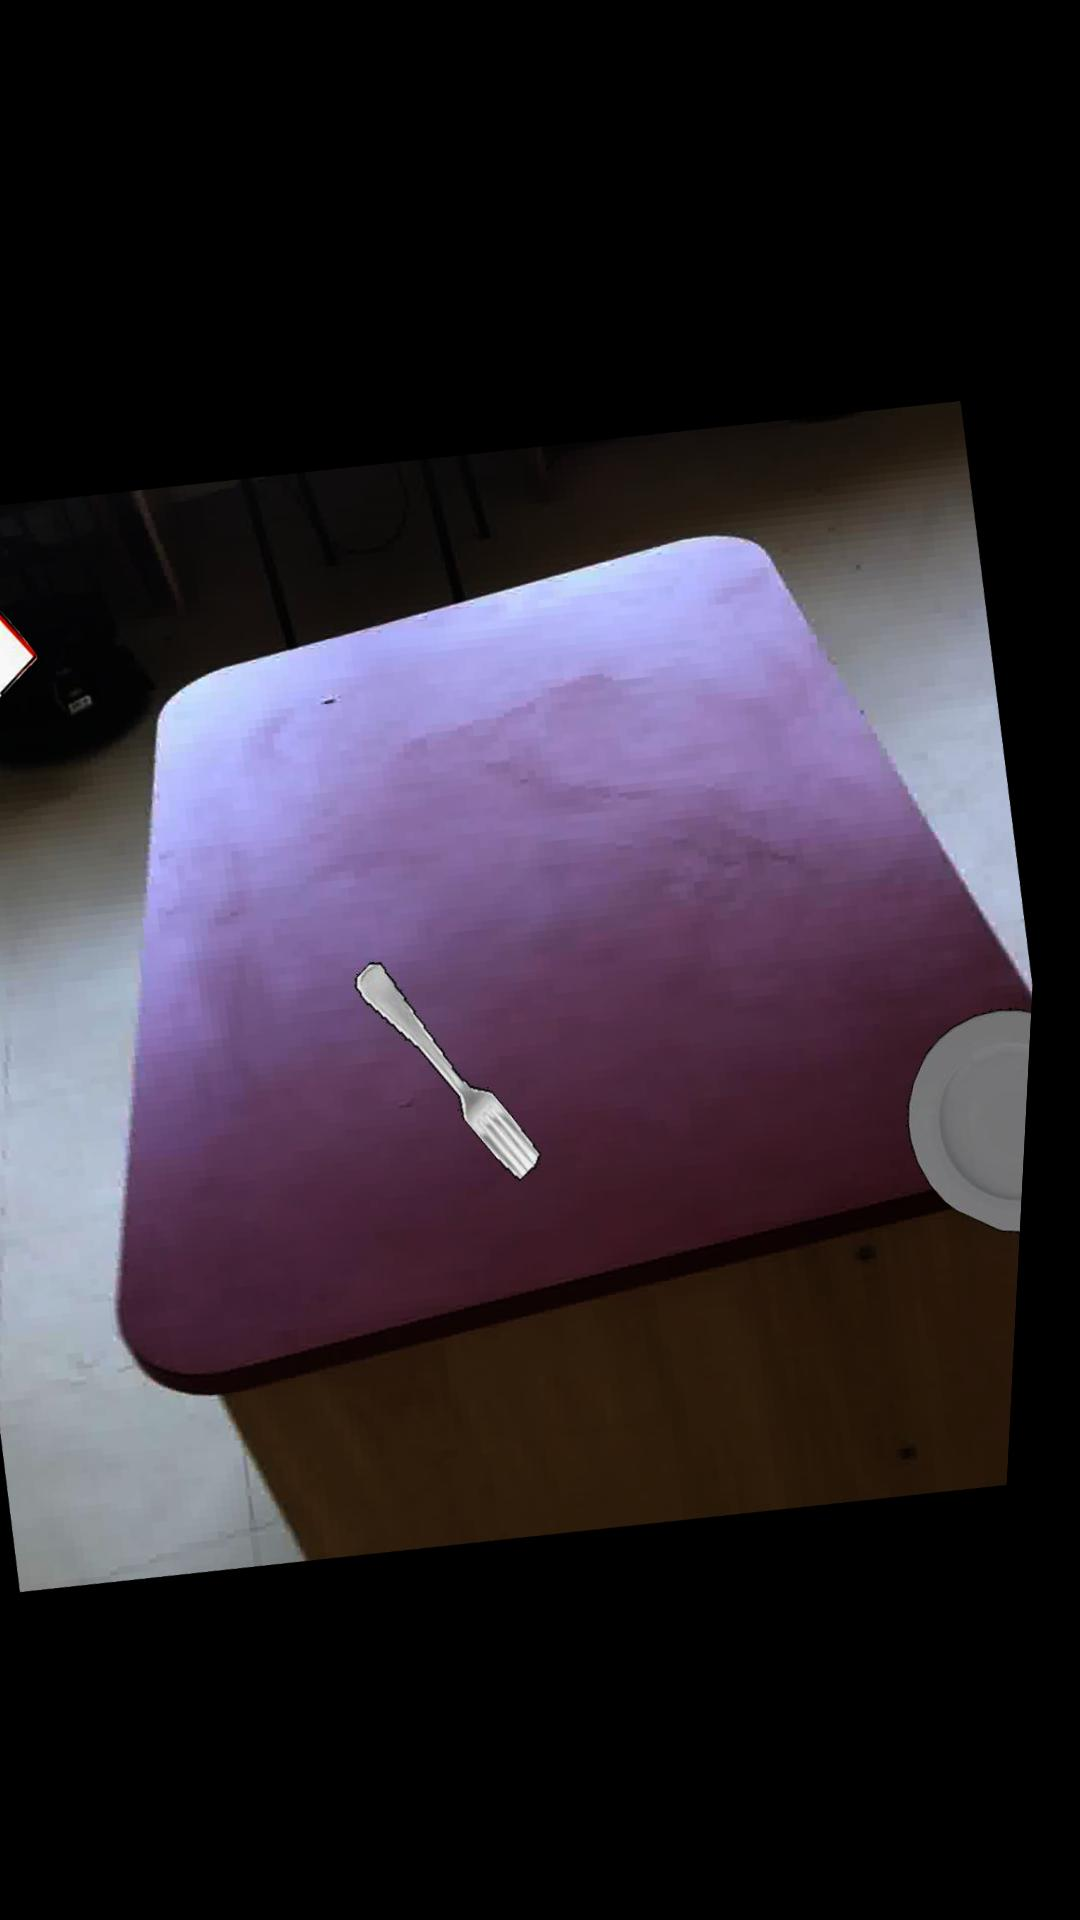fork: (367, 957, 555, 1172)
plate: (920, 993, 1042, 1217)
